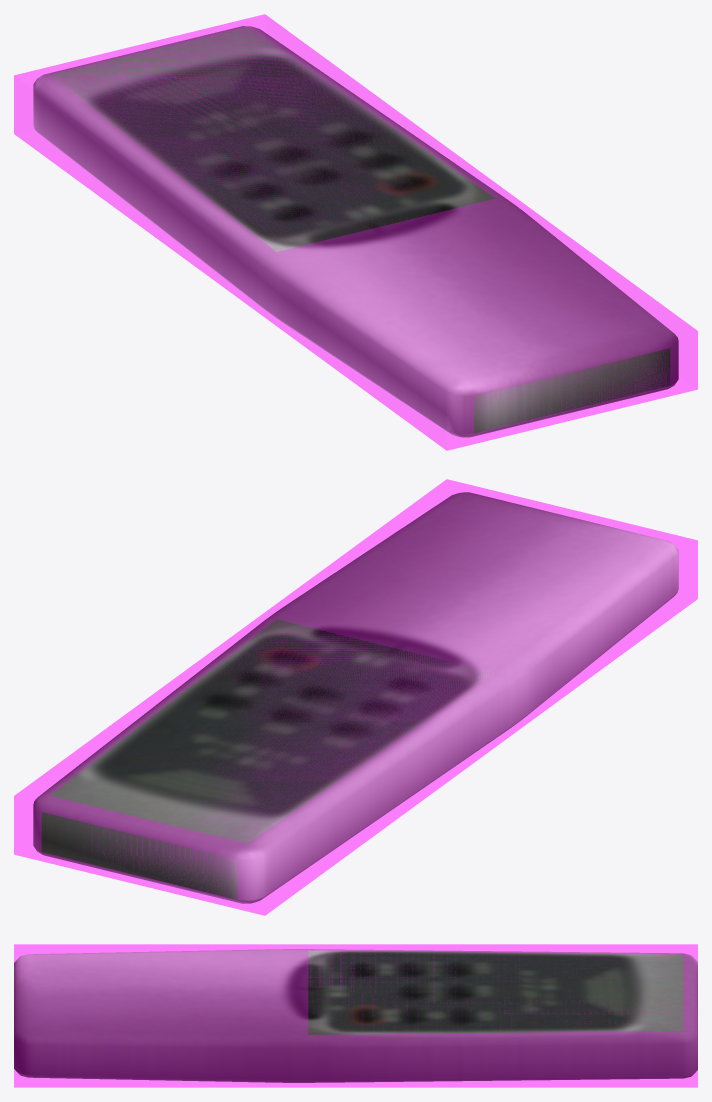
Rendered from CDremocon.fbx.
The picture shows the model from 3 angles, top to bottom: view 1: azimuth 30°, elevation 25°; view 2: azimuth 150°, elevation 25°; view 3: azimuth 270°, elevation 25°; orthographic projection. The views are drawn at different scales.
Parts seen in each view (by area): view 1: CDremocon, boundingbox; view 2: CDremocon, boundingbox; view 3: CDremocon, boundingbox.
Boxes of the visible parts, left/top/right/bottom form: CDremocon: left=33, top=26, right=678, bottom=437; boundingbox: left=14, top=14, right=697, bottom=450; CDremocon: left=33, top=492, right=678, bottom=903; boundingbox: left=14, top=479, right=697, bottom=915; CDremocon: left=14, top=949, right=697, bottom=1082; boundingbox: left=14, top=944, right=697, bottom=1087.
Bounding box in the file's own units: 5.02 × 1.12 × 15.
2 materials, 1 textured.
